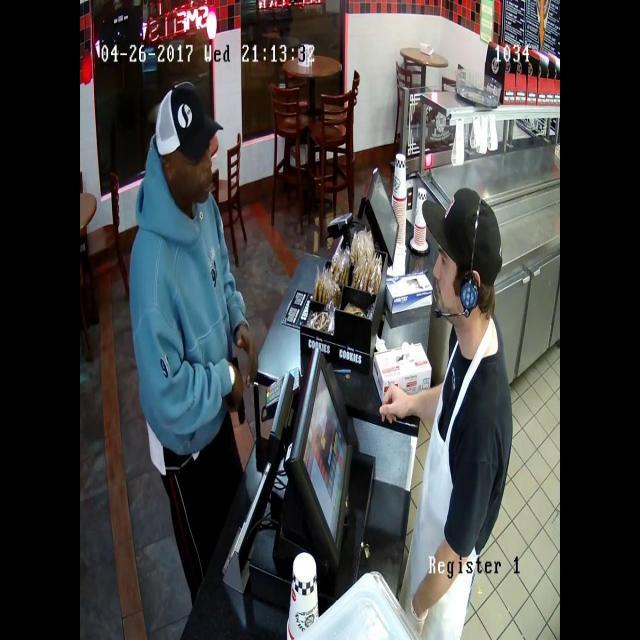weapon: (216, 336, 252, 444)
